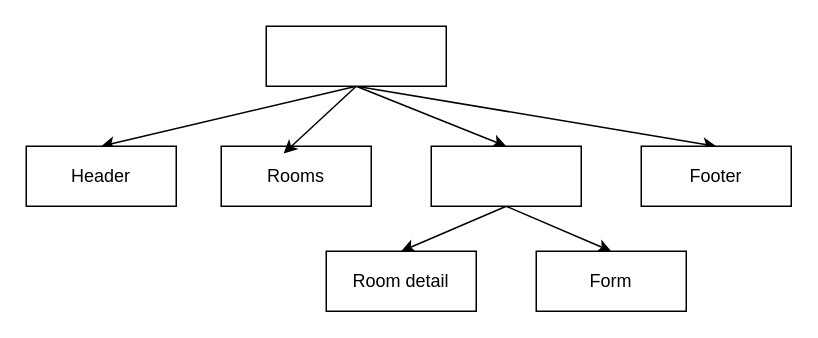
Image size: 818x338. Some labels were removed from this diagram. The centre of each missing label's shape, as x and y in pixels:
"Homepage" goes at point (355, 55).
"Reservation" goes at point (505, 175).
